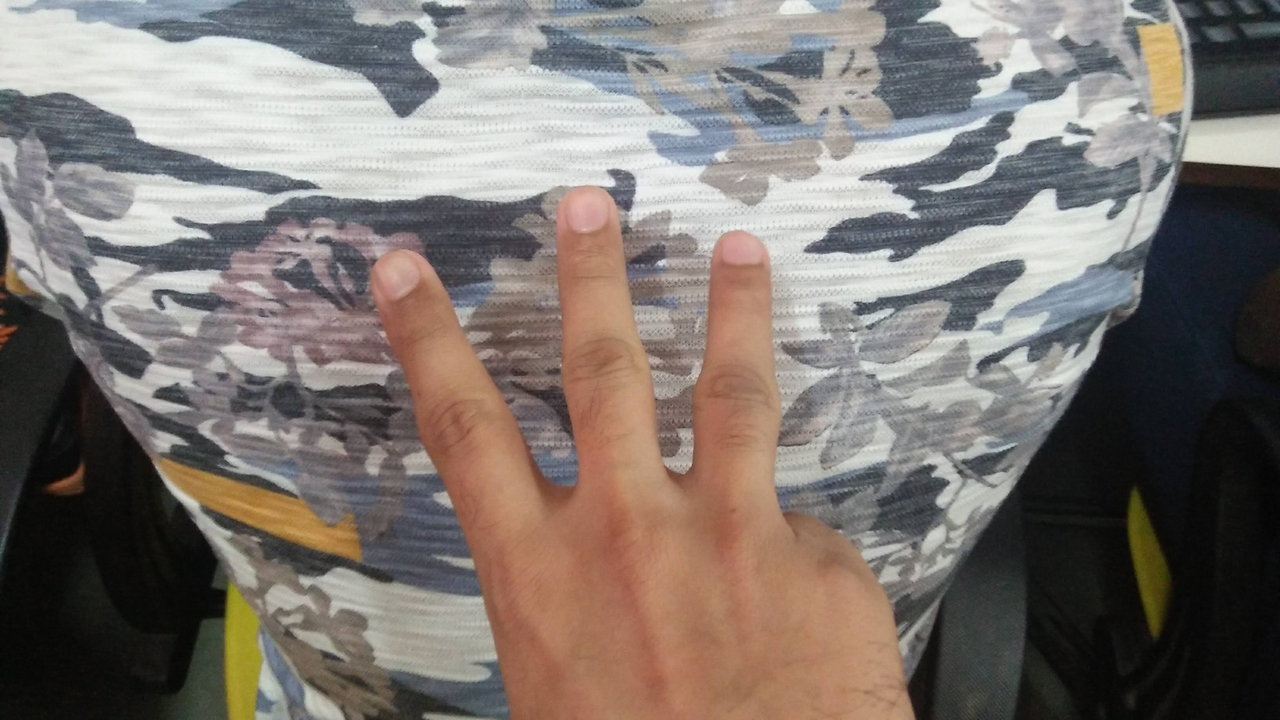fingertip: (360, 242, 436, 314), (550, 182, 618, 246), (708, 226, 772, 286)
